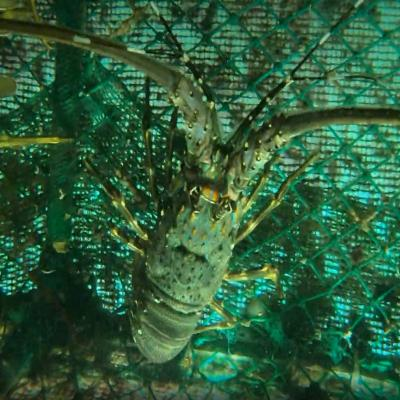lobster: (130, 113, 250, 364)
